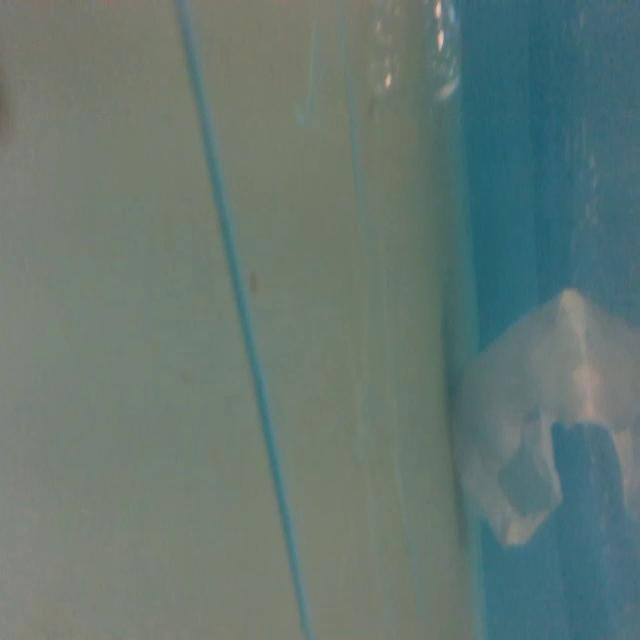plastic bags: (453, 269, 640, 560)
